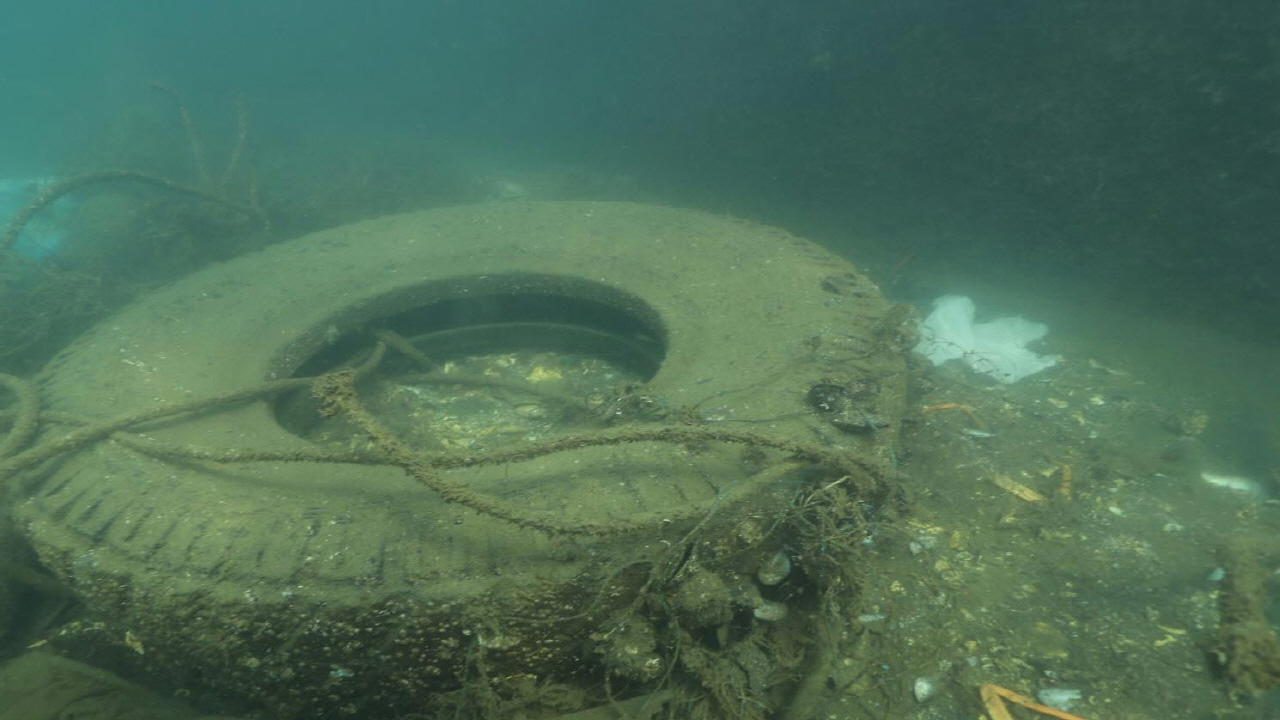bundle of ropes: (0, 331, 910, 720)
tire: (0, 193, 912, 720)
